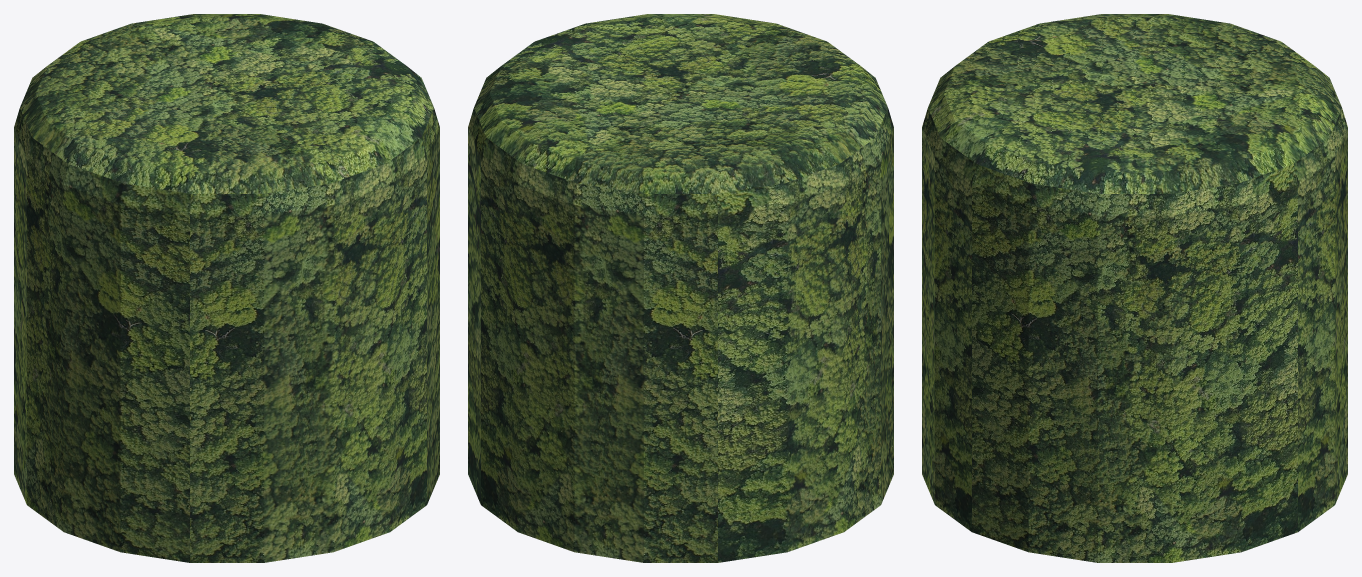
The model's file is GreenBlock.fbx.
3 renders of one model, left to right at view 1: azimuth 30°, elevation 25°; view 2: azimuth 150°, elevation 25°; view 3: azimuth 270°, elevation 25°, orthographic.
Parts seen in each view (by area): view 1: Cylinder; view 2: Cylinder; view 3: Cylinder.
Boxes of the visible parts, x1,y1,x2,y2 form: Cylinder: (14, 14, 439, 562); Cylinder: (468, 14, 893, 562); Cylinder: (922, 14, 1347, 562).
Bounding box in the file's own units: 9848 × 10000 × 10000.
